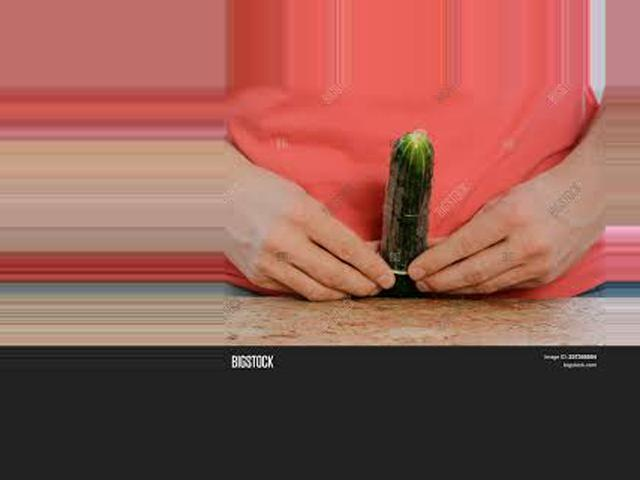cucumber: (381, 131, 435, 296)
